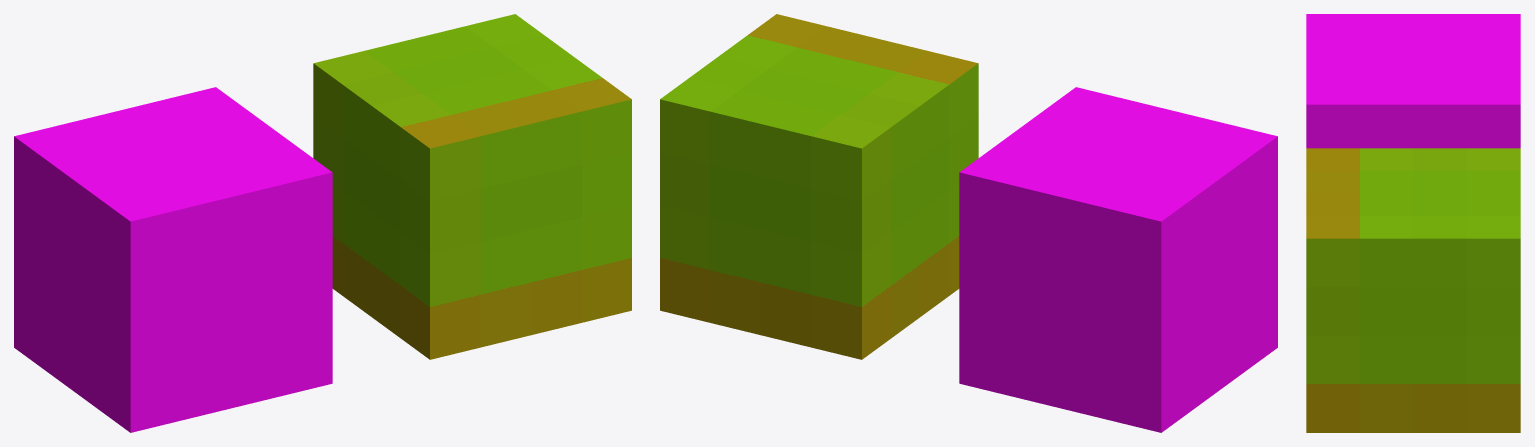
The model's file is textureCubes.gltf.
The picture shows the model from 3 angles, left to right: view 1: azimuth 30°, elevation 25°; view 2: azimuth 150°, elevation 25°; view 3: azimuth 270°, elevation 25°; orthographic projection. The views are drawn at different scales.
Visible parts, largest first — view 1: Box, Box_1; view 2: Box, Box_1; view 3: Box_1, Box.
Boxes of the visible parts, bbox=[...] form: Box: bbox=[14, 87, 332, 432]; Box_1: bbox=[313, 14, 631, 359]; Box: bbox=[959, 87, 1277, 432]; Box_1: bbox=[660, 14, 978, 359]; Box_1: bbox=[1306, 148, 1520, 432]; Box: bbox=[1306, 14, 1520, 148].
Size of the model in its own units: 2.48 by 1 by 1.
2 materials, 1 textured.
